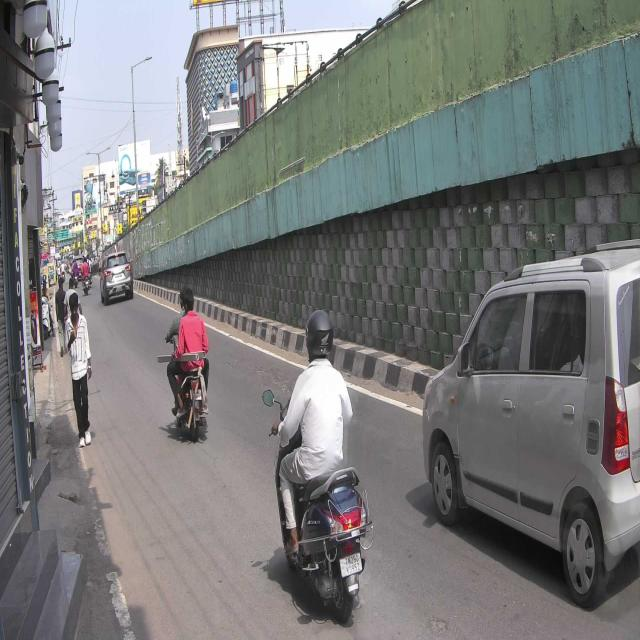double_rider: (164, 286, 210, 440)
single_rider: (264, 310, 372, 622)
